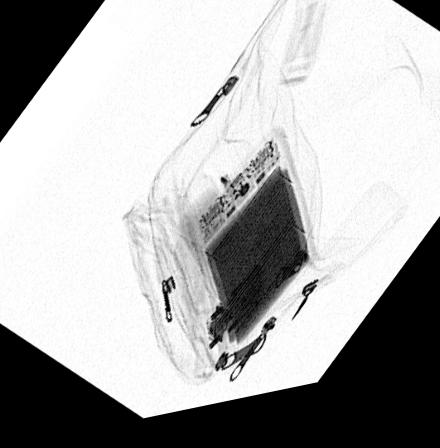Powerbank: (187, 142, 317, 363)
